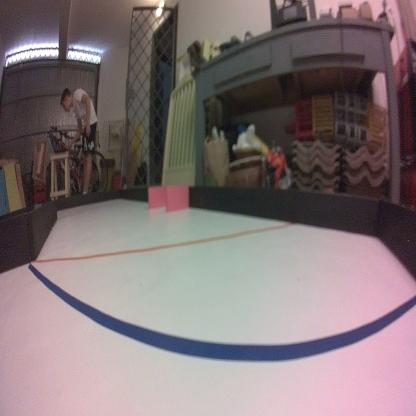magenta: (166, 184, 188, 212), (148, 186, 166, 208)
